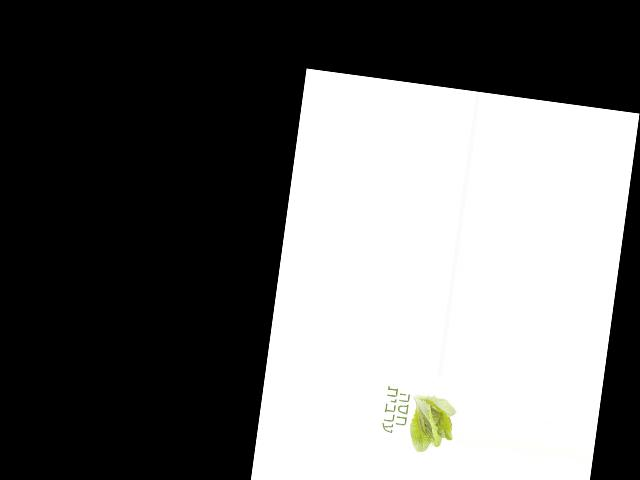lettuce: (401, 389, 458, 456)
